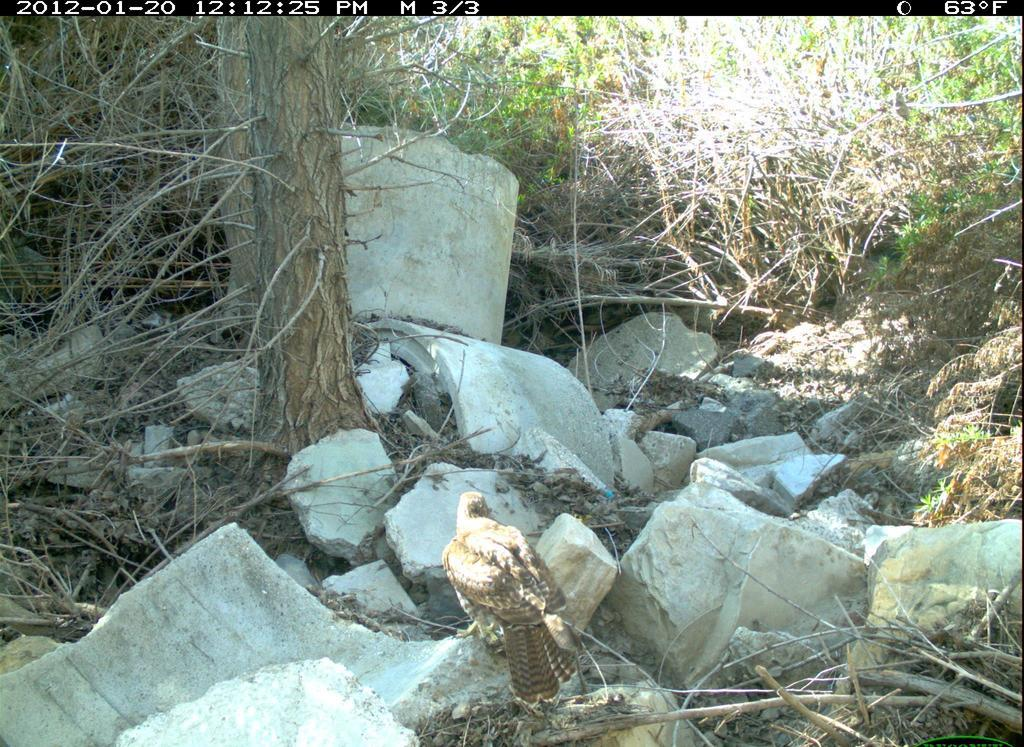bird: (441, 477, 602, 716)
